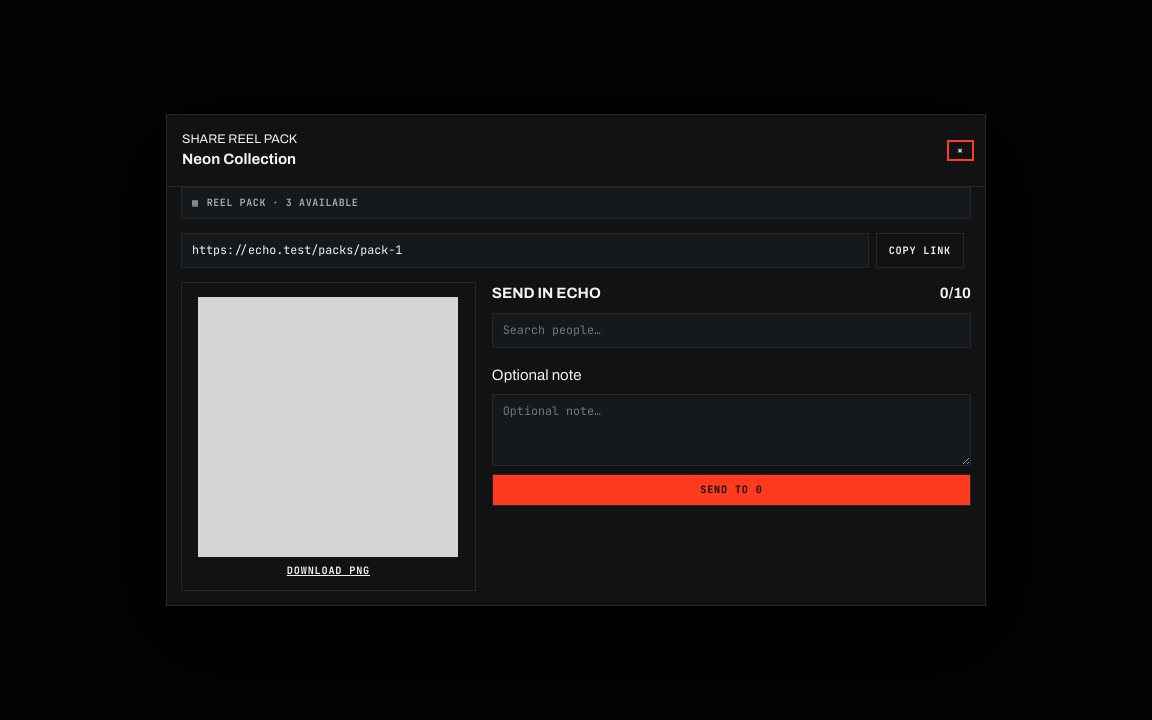
it: ReelShareDialog copy link › selects the visible link instead of opening a browser prompt when the clipboard is blocked
This screenshot has width=1152, height=720.
expect the field showing "https://echo.test/packs/pack-1" is shown: met, box x1=181 y1=233 x2=869 y2=268
Click the button "COPY LINK" at (920,250), box x1=876 y1=233 x2=964 y2=268
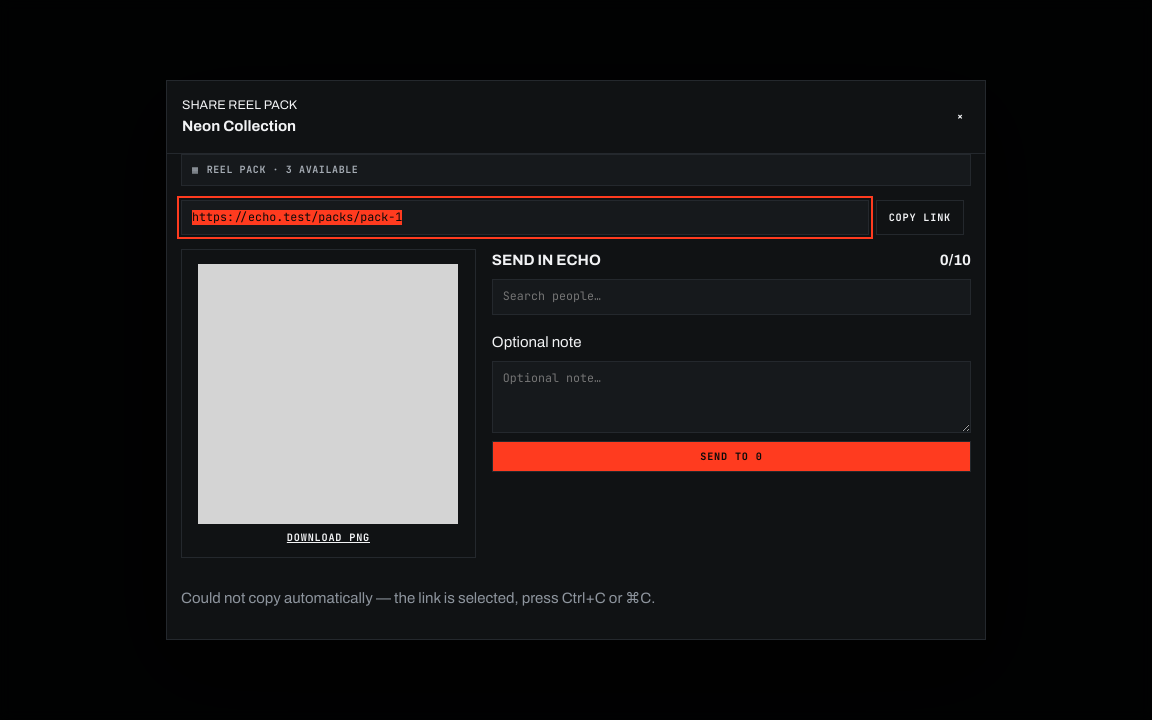
expect the text "Could not copy automatically — the link is selected, press Ctrl+C or ⌘C." is shown: met, box x1=181 y1=590 x2=655 y2=606
